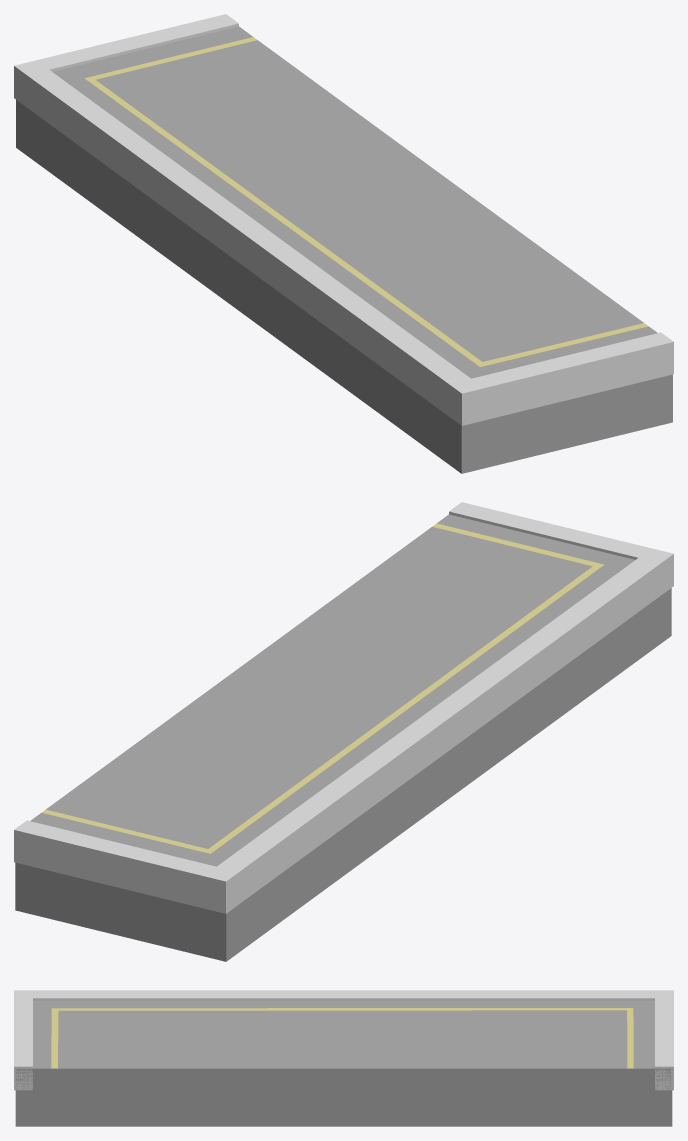
The model's file is props14.fbx.
3 views of the same model, one above another, from view 1: azimuth 30°, elevation 25°; view 2: azimuth 150°, elevation 25°; view 3: azimuth 270°, elevation 25° (orthographic). The views are drawn at different scales.
Visible parts, largest first — view 1: Cube_1; view 2: Cube_1; view 3: Cube_1.
Part boxes in pixels (left/top/right/bottom): Cube_1: left=14, top=14, right=673, bottom=473; Cube_1: left=14, top=502, right=673, bottom=961; Cube_1: left=14, top=990, right=673, bottom=1126.
Bounding box in the file's own units: 201 × 73.72 × 735.
